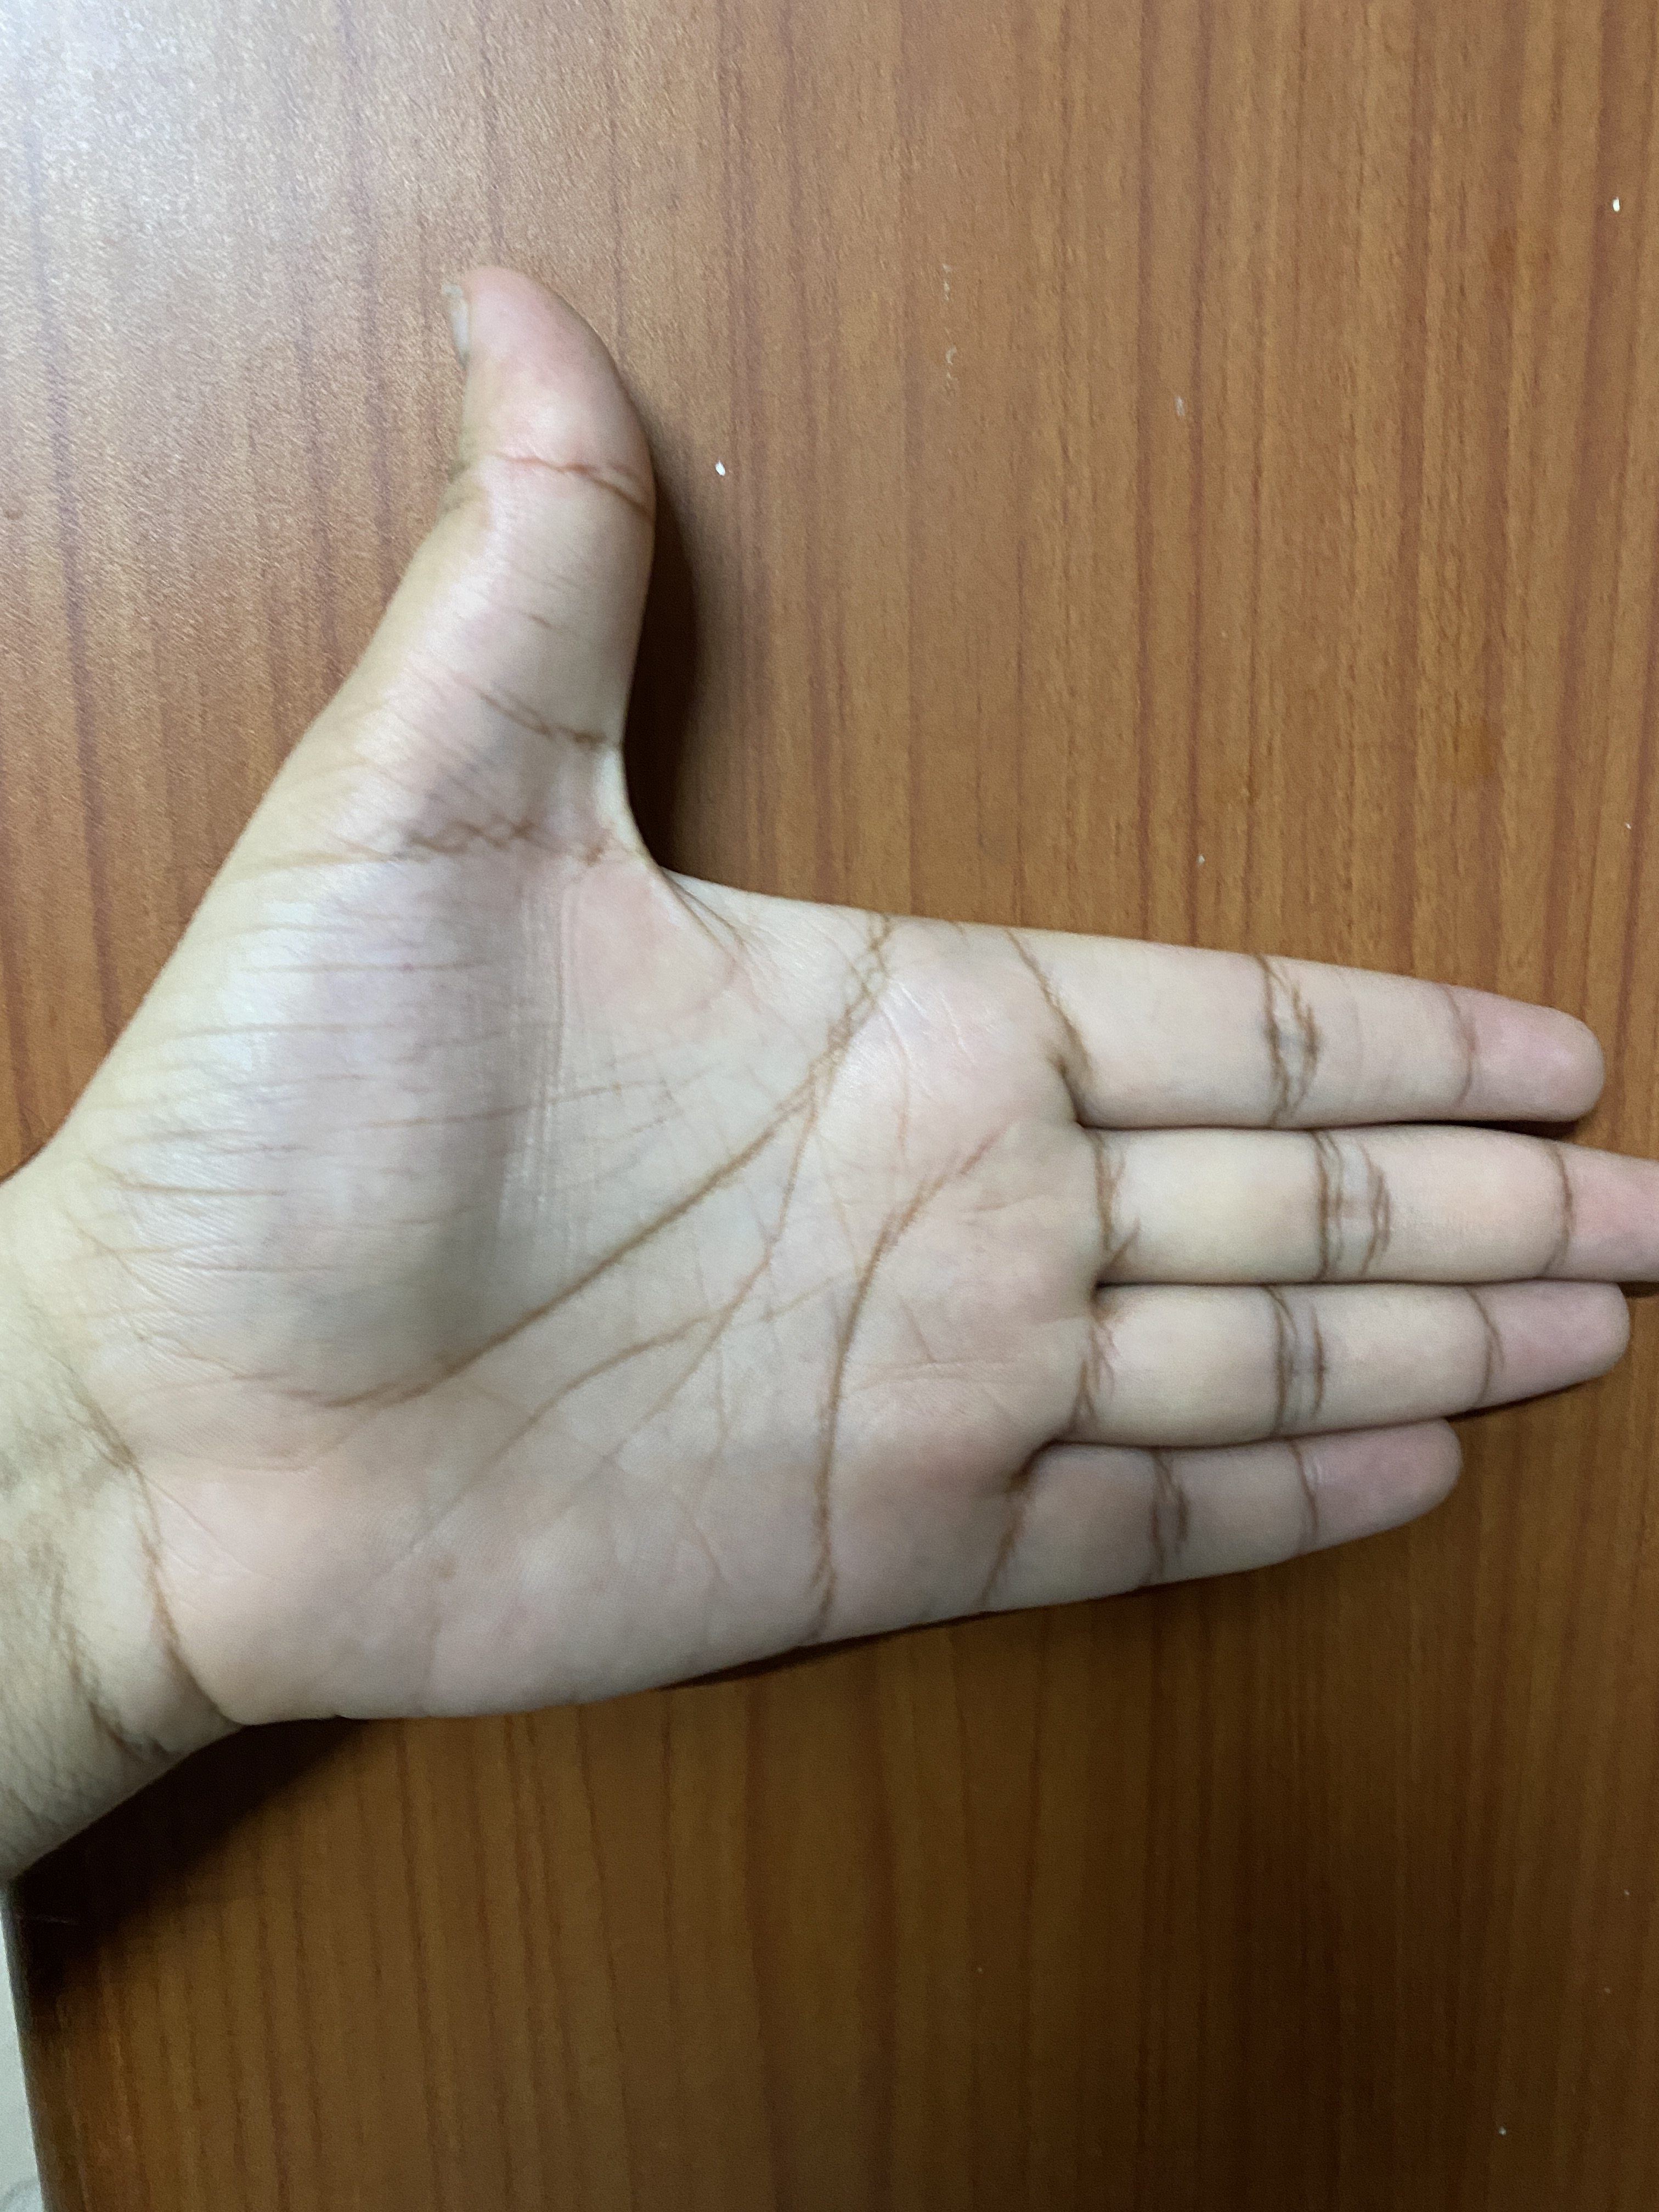up: (38, 206, 1659, 1838)
